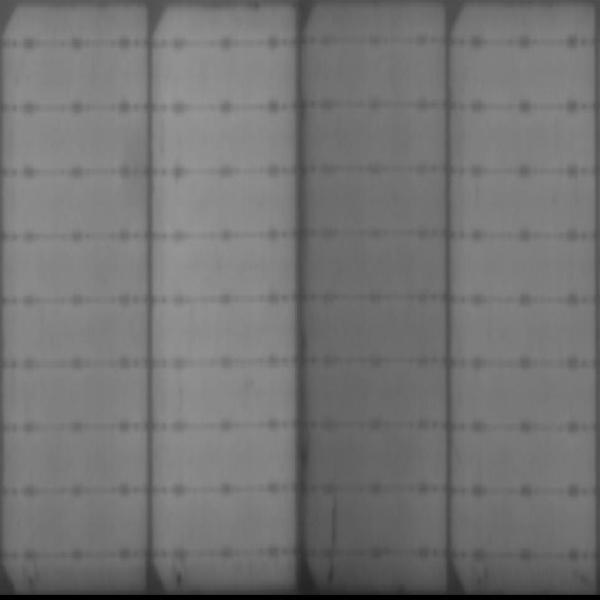scratch: (325, 489, 338, 587)
